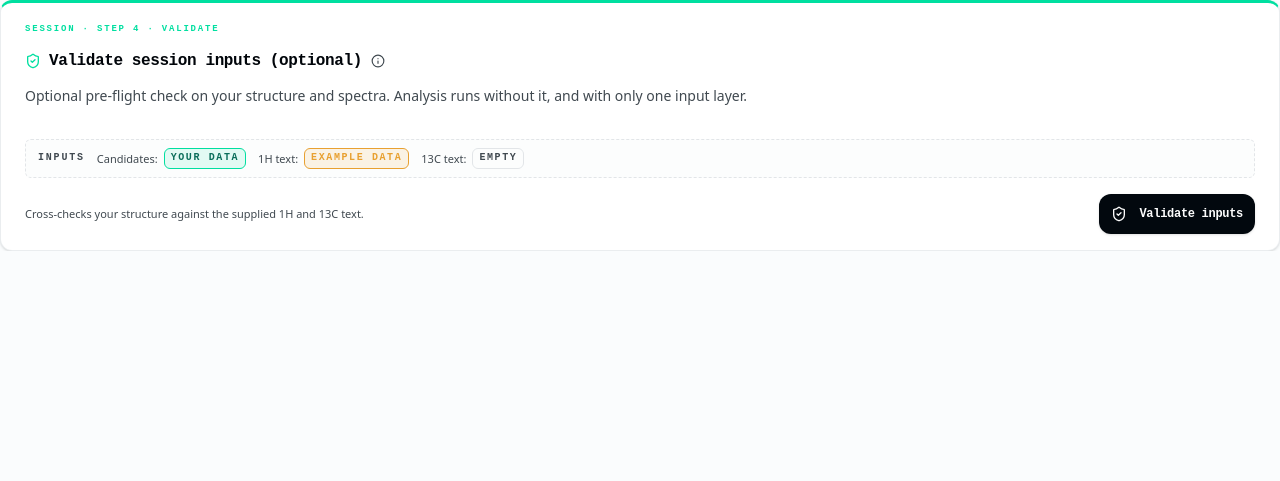
Test: SessionValidateCard — backend roundtrip › validation never gates downstream analysis — button stays enabled after a failure
The width and height of the screenshot is (1280, 481).
What coordinates should you click on to do the following:
click the button with test id "session-validate-button"
I would click on:
 (1177, 214)
Its box is [1100, 194, 1255, 234].
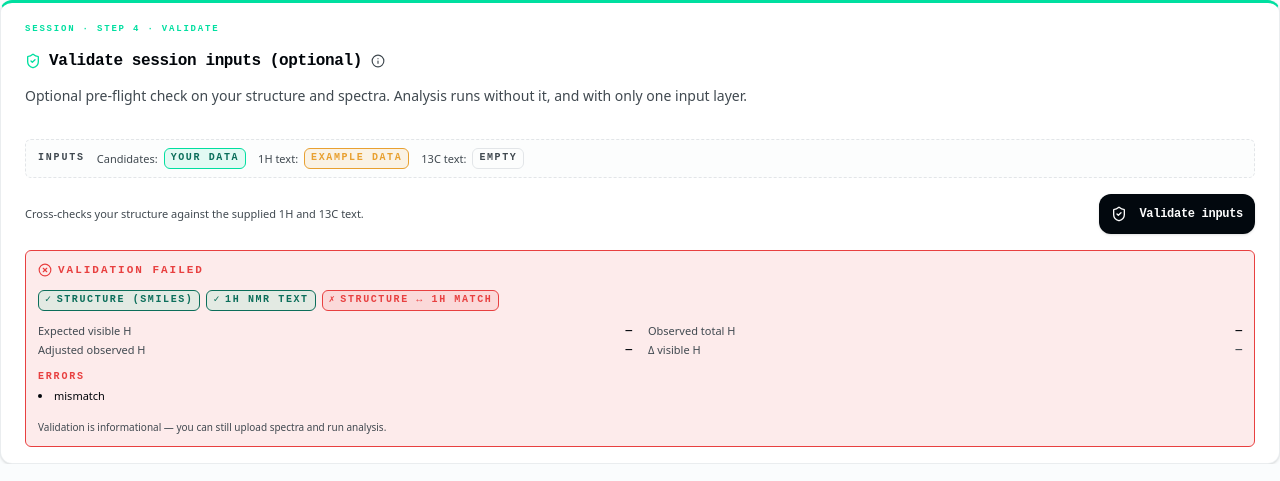
Result: the element with test id "session-validate-result" is shown at [25, 250, 1255, 447]
